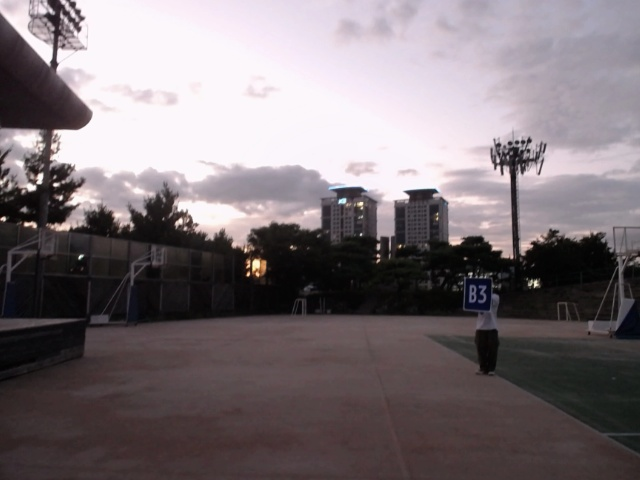delivery_b3: (464, 276, 493, 313)
